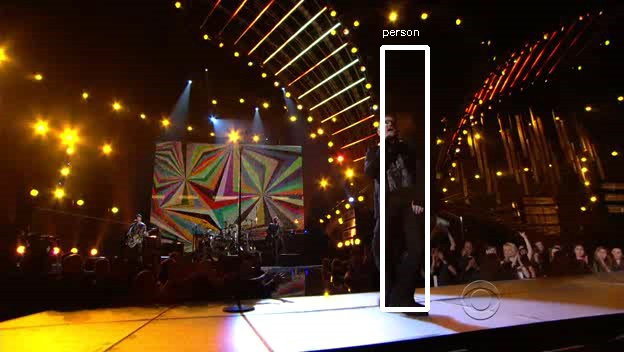person: (363, 116, 430, 229), (360, 116, 427, 229), (366, 116, 433, 229), (363, 113, 430, 226), (363, 119, 430, 232)
target_negative: (381, 53, 574, 273), (133, 188, 485, 288), (410, 89, 538, 313), (39, 205, 239, 296), (535, 228, 574, 278), (530, 335, 543, 336)
